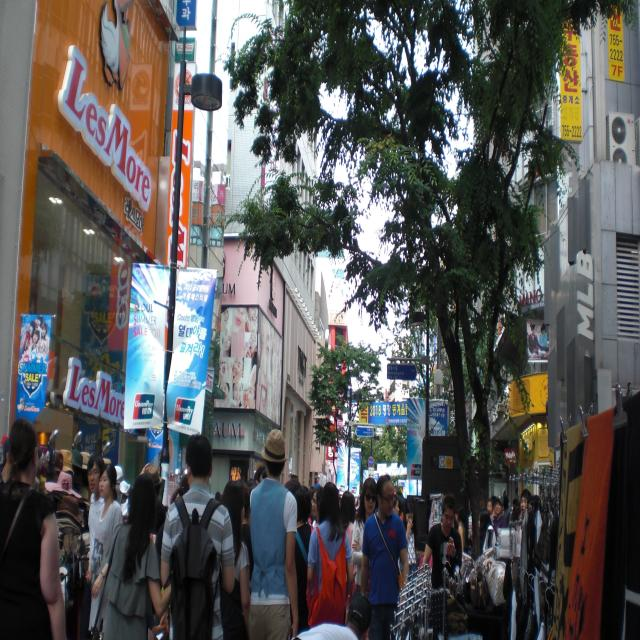body: (158, 429, 238, 640), (0, 416, 68, 640), (99, 470, 179, 640), (247, 428, 300, 640), (360, 474, 409, 640), (217, 306, 280, 427), (85, 462, 126, 640), (307, 481, 354, 631), (454, 488, 556, 553), (214, 480, 250, 640), (416, 493, 463, 593), (289, 591, 372, 640), (86, 452, 107, 640), (350, 476, 378, 598), (403, 503, 418, 602), (19, 314, 49, 359), (340, 489, 356, 552), (528, 321, 550, 363), (308, 483, 323, 525), (168, 472, 189, 500), (1, 436, 12, 485), (283, 478, 303, 503), (239, 464, 267, 480), (150, 461, 160, 497), (393, 491, 405, 515), (244, 479, 250, 524), (250, 479, 261, 491), (140, 461, 150, 474), (336, 486, 341, 508), (355, 495, 360, 515), (215, 491, 222, 502)
